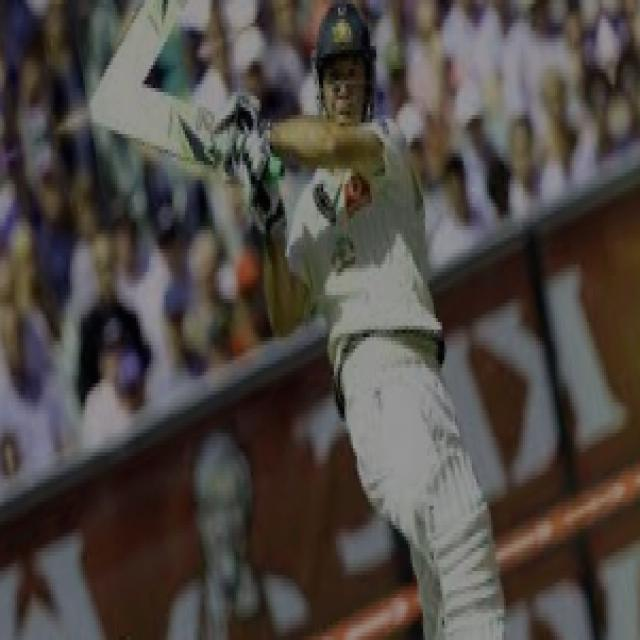toe: (90, 93, 139, 130)
